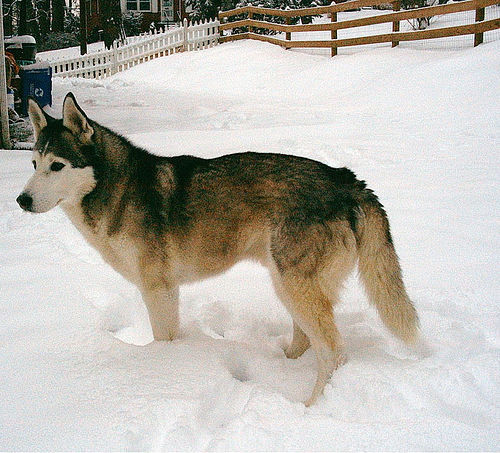dog: (14, 92, 420, 405)
